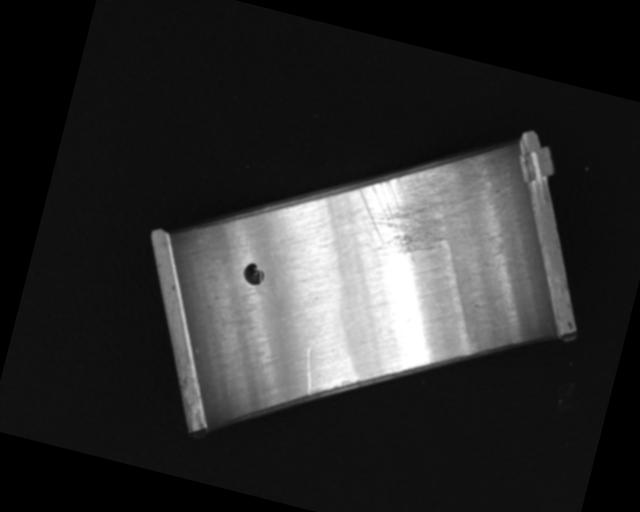blot: (239, 260, 268, 288)
nick: (297, 347, 322, 394)
scratch: (345, 131, 482, 273)
